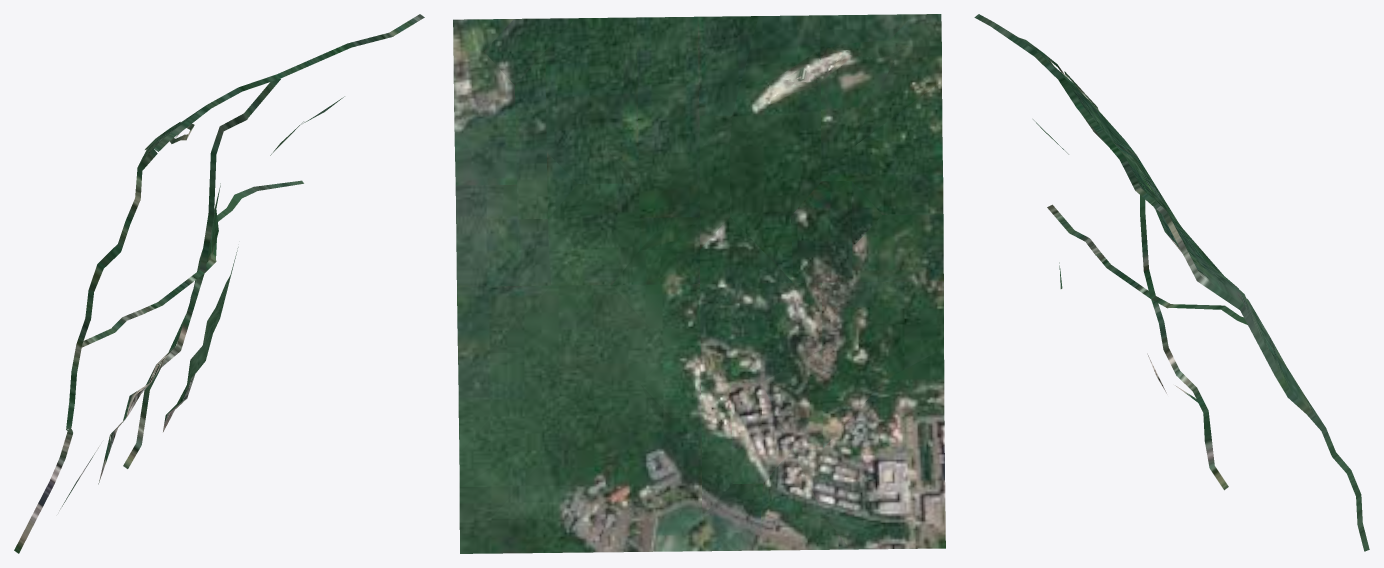
3 renders of one model, left to right at view 1: azimuth 30°, elevation 25°; view 2: azimuth 150°, elevation 25°; view 3: azimuth 270°, elevation 25°, orthographic. The views are drawn at different scales.
Size of the model in its own units: 1225 by 1175 by 978.
Materials: 1 (1 with a texture image).
